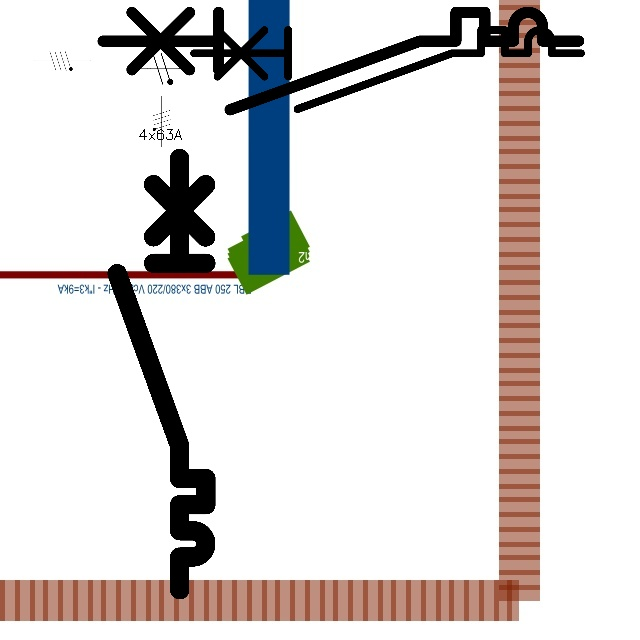interruptor_termomagnetico: (90, 0, 590, 122), (106, 147, 217, 601), (184, 20, 591, 119)
